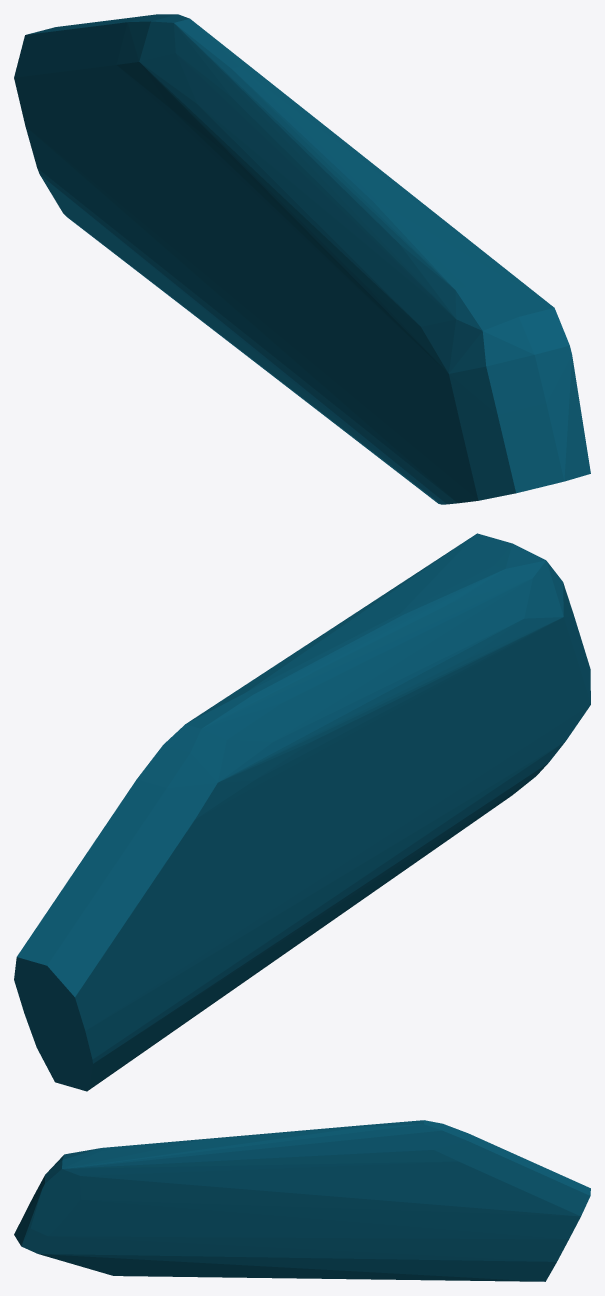
Rendered from converted_Downdraft_Assy_collision_35_065a74ff.obj.
3 views of the same model, one above another, from view 1: azimuth 30°, elevation 25°; view 2: azimuth 150°, elevation 25°; view 3: azimuth 270°, elevation 25° (orthographic). The views are drawn at different scales.
Bounding box in the file's own units: 0.034 × 0.0914 × 0.3118.
